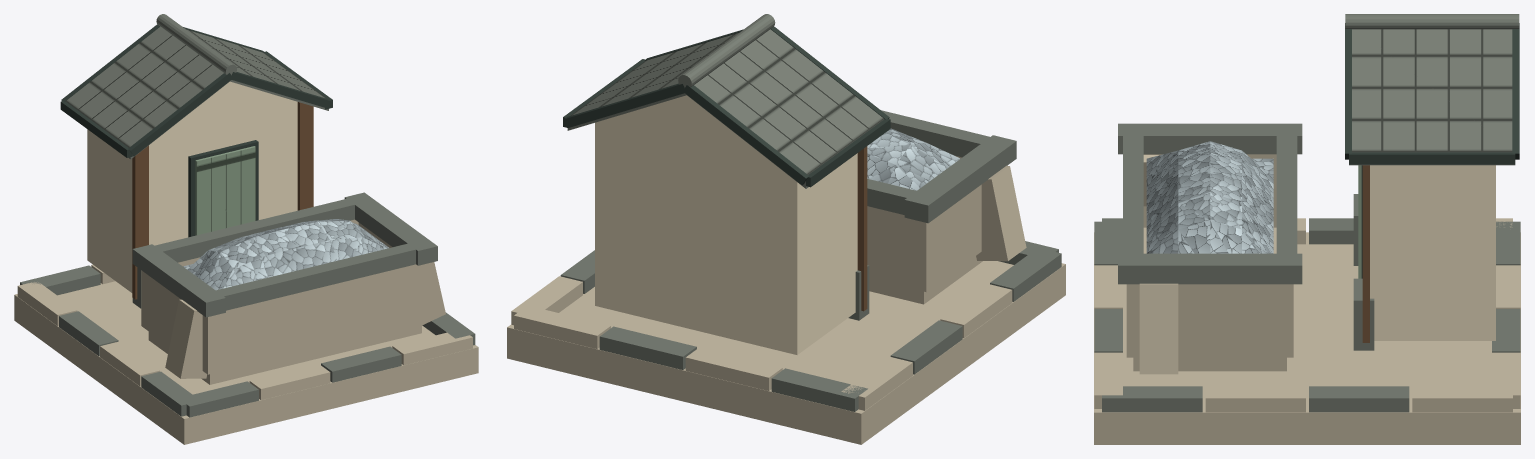
Rendered from destination-bulk.glb.
3 renders of one model, left to right at view 1: azimuth 30°, elevation 25°; view 2: azimuth 150°, elevation 25°; view 3: azimuth 270°, elevation 25°, orthographic. The views are drawn at different scales.
Visible parts, largest first — view 1: Mesh_ReceivingHouse_FacilityDetailPaint, Mesh_ReceivingBin_FacilityDetailPaint, Mesh_destination-bulk_FacilityDetailPaint, Textured aggregate heap; view 2: Mesh_ReceivingHouse_FacilityDetailPaint, Mesh_destination-bulk_FacilityDetailPaint, Mesh_ReceivingBin_FacilityDetailPaint, Textured aggregate heap; view 3: Mesh_destination-bulk_FacilityDetailPaint, Mesh_ReceivingHouse_FacilityDetailPaint, Mesh_ReceivingBin_FacilityDetailPaint, Textured aggregate heap.
Part boxes in pixels (left/top/right/bottom): Mesh_ReceivingHouse_FacilityDetailPaint: left=60, top=14, right=332, bottom=308; Mesh_ReceivingBin_FacilityDetailPaint: left=132, top=192, right=445, bottom=384; Mesh_destination-bulk_FacilityDetailPaint: left=14, top=264, right=478, bottom=444; Textured aggregate heap: left=183, top=219, right=388, bottom=290; Mesh_ReceivingHouse_FacilityDetailPaint: left=563, top=14, right=890, bottom=354; Mesh_destination-bulk_FacilityDetailPaint: left=507, top=241, right=1065, bottom=444; Mesh_ReceivingBin_FacilityDetailPaint: left=867, top=110, right=1026, bottom=304; Textured aggregate heap: left=867, top=128, right=960, bottom=190; Mesh_destination-bulk_FacilityDetailPaint: left=1094, top=218, right=1520, bottom=444; Mesh_ReceivingHouse_FacilityDetailPaint: left=1345, top=14, right=1519, bottom=350; Mesh_ReceivingBin_FacilityDetailPaint: left=1118, top=123, right=1302, bottom=374; Textured aggregate heap: left=1146, top=141, right=1273, bottom=253.
Size of the model in its own units: 0.8333 by 0.7327 by 0.8333.
2 materials, 2 textured.
